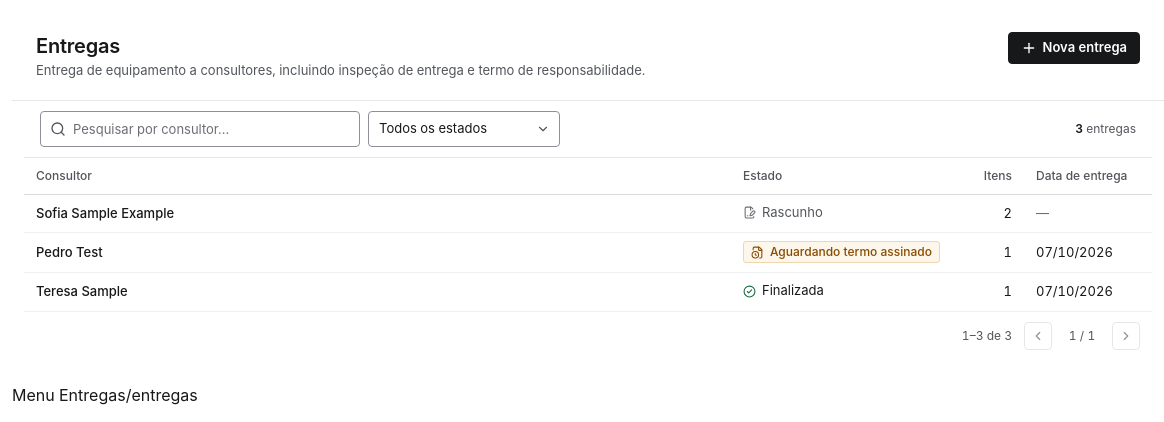
it: HandoversListPage › renders the operational status and links each row to its handover
Check: the text "Rascunho" is shown, box [743,202,823,222]
Check: the text "Aguardando termo assinado" is shown, box [743,241,940,263]
Click the link "Sofia Sample Example" at (105, 213), box [36,205,174,221]
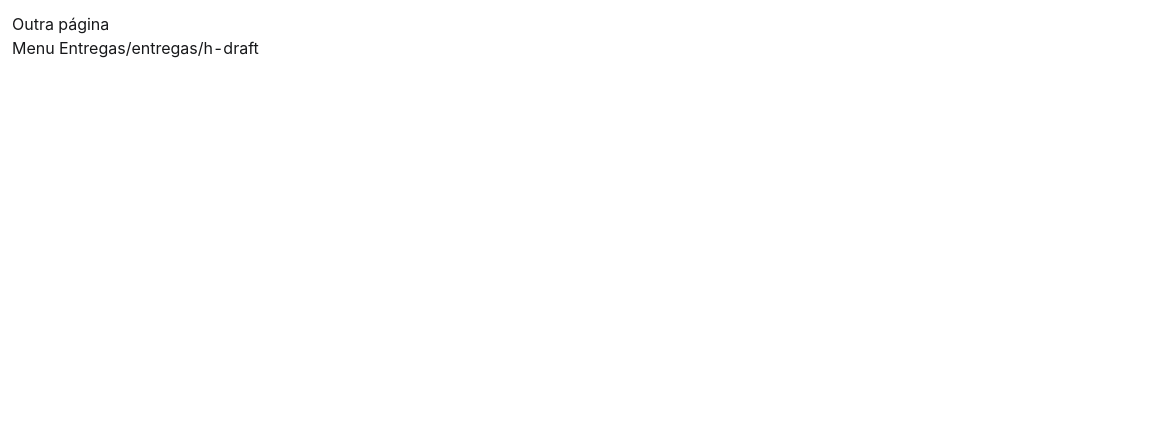
Check: the text with test id "location" reads "/entregas/h-draft", box [126,38,259,58]
